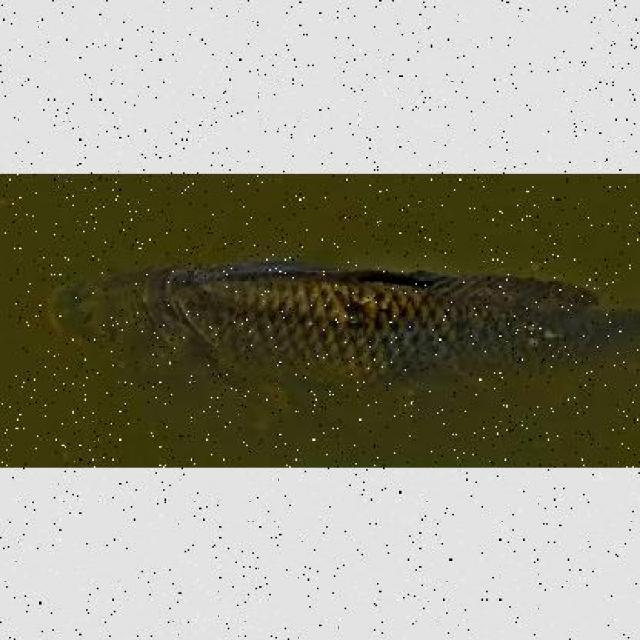ikan-mas: (49, 250, 640, 404)
